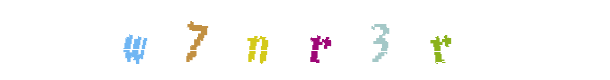3: (278, 0, 358, 80)
7: (217, 0, 297, 80)
N: (261, 0, 341, 80)
R: (266, 0, 346, 80), (305, 0, 385, 80)
W: (94, 0, 174, 80)
